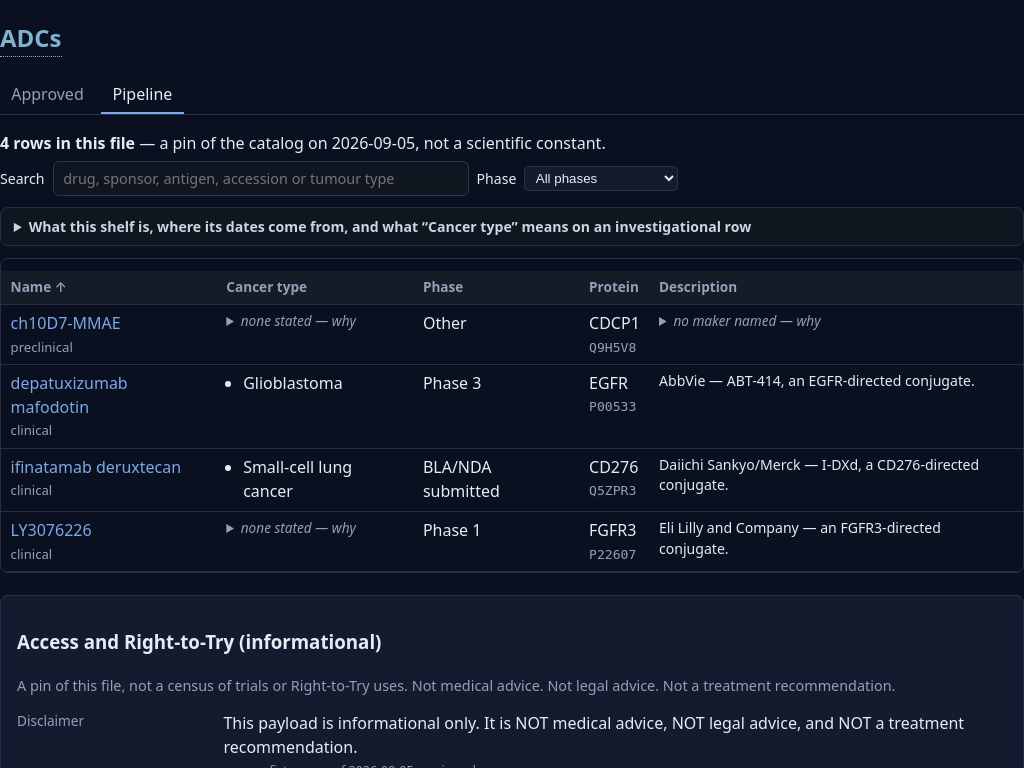
AdcsView — D-124 Pipeline shelf › phase filter uses the Architect closed set and can empty the table
The image size is (1024, 768).
Expected: the table is shown, [1, 271, 1023, 572]
Step 1. Select "Phase 1" in the dropdown labelled "Phase" → (601, 179), box [524, 166, 678, 192]
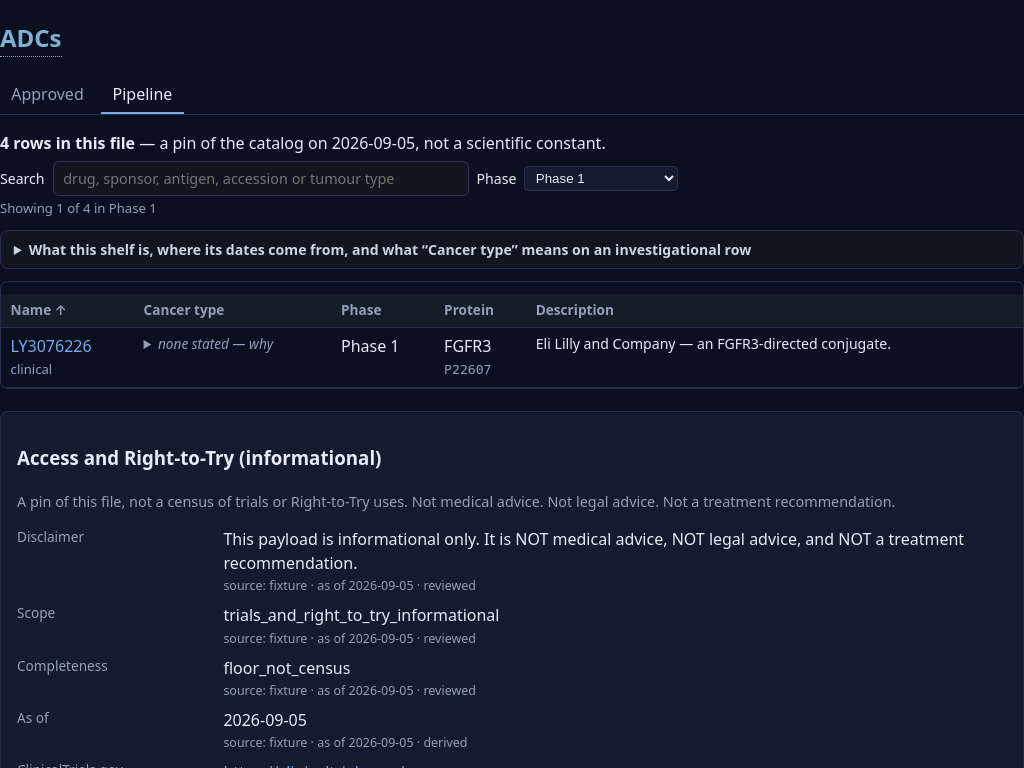
Expected: the link "LY3076226" is shown, [11, 335, 92, 357]
Now the link "ifinatamab deruxtecan" is gone
Now the text "Showing 1 of 4 in Phase 1" is shown, box [0, 199, 157, 217]
Step 2. Select "Phase 2" in the dropdown labelled "Phase" → (601, 179), box [524, 166, 678, 192]
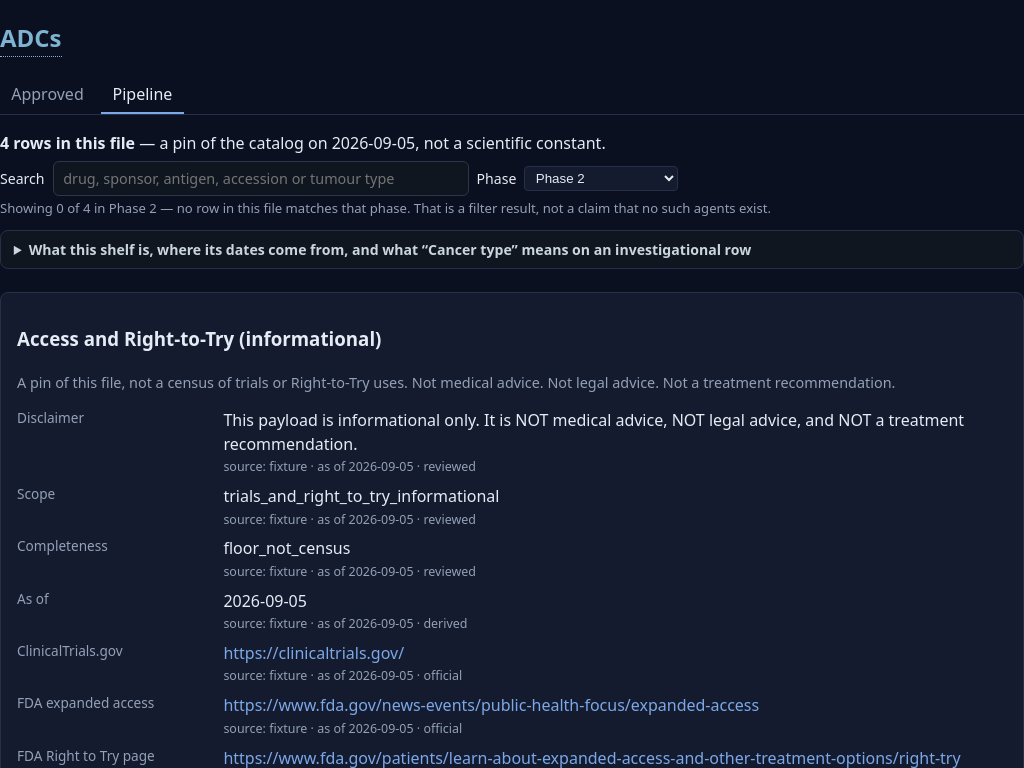
Now the table is gone
Now the text "no row in this file matches that phase" is shown, box [0, 199, 771, 217]
